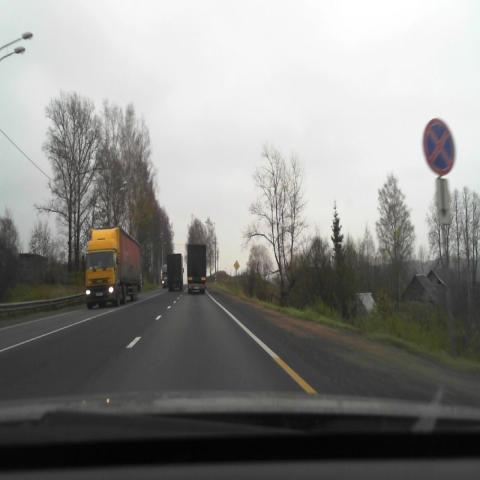8_2_3: (437, 179, 451, 226)
